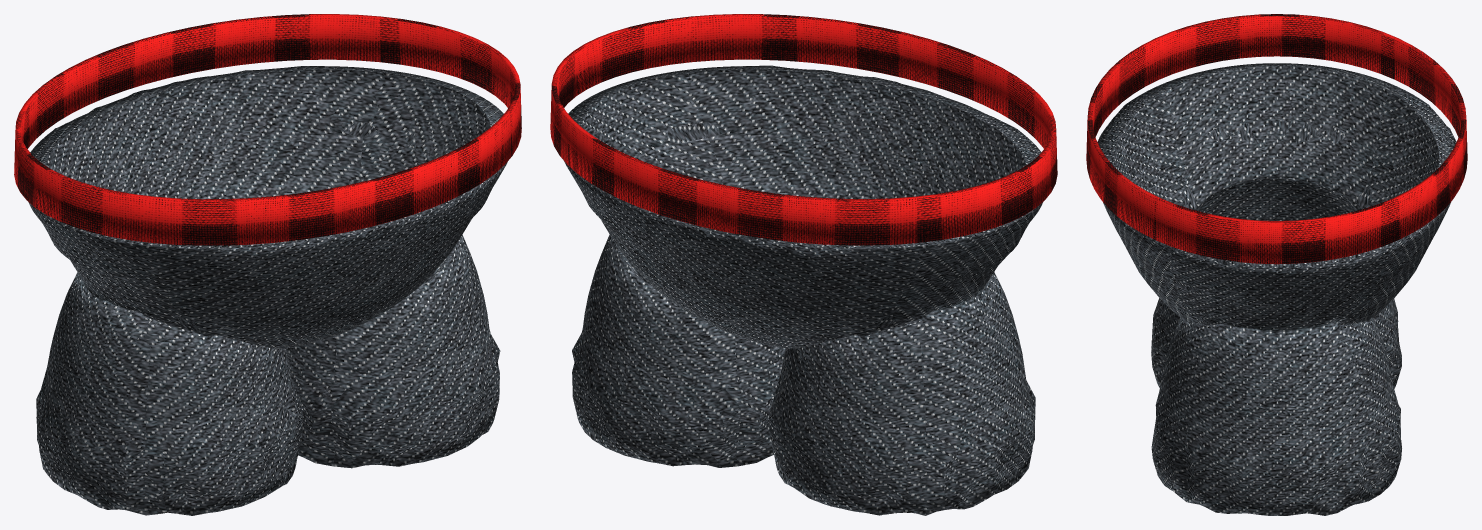
The model's file is baggy1.fbx.
3 renders of one model, left to right at view 1: azimuth 30°, elevation 25°; view 2: azimuth 150°, elevation 25°; view 3: azimuth 270°, elevation 25°, orthographic. The views are drawn at different scales.
Visible parts, largest first — view 1: baggy1; view 2: baggy1; view 3: baggy1.
Part boxes in pixels (left/top/right/bottom): baggy1: left=14, top=14, right=521, bottom=515; baggy1: left=550, top=14, right=1057, bottom=515; baggy1: left=1086, top=14, right=1467, bottom=515.
Size of the model in its own units: 0.8281 by 0.5657 by 0.6356.
Materials: 2 (2 with a texture image).
